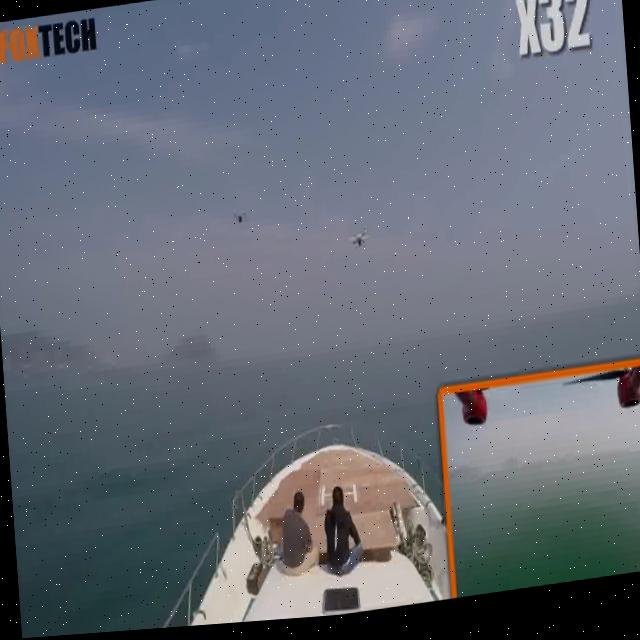drone: (218, 190, 254, 245), (342, 212, 376, 263)
